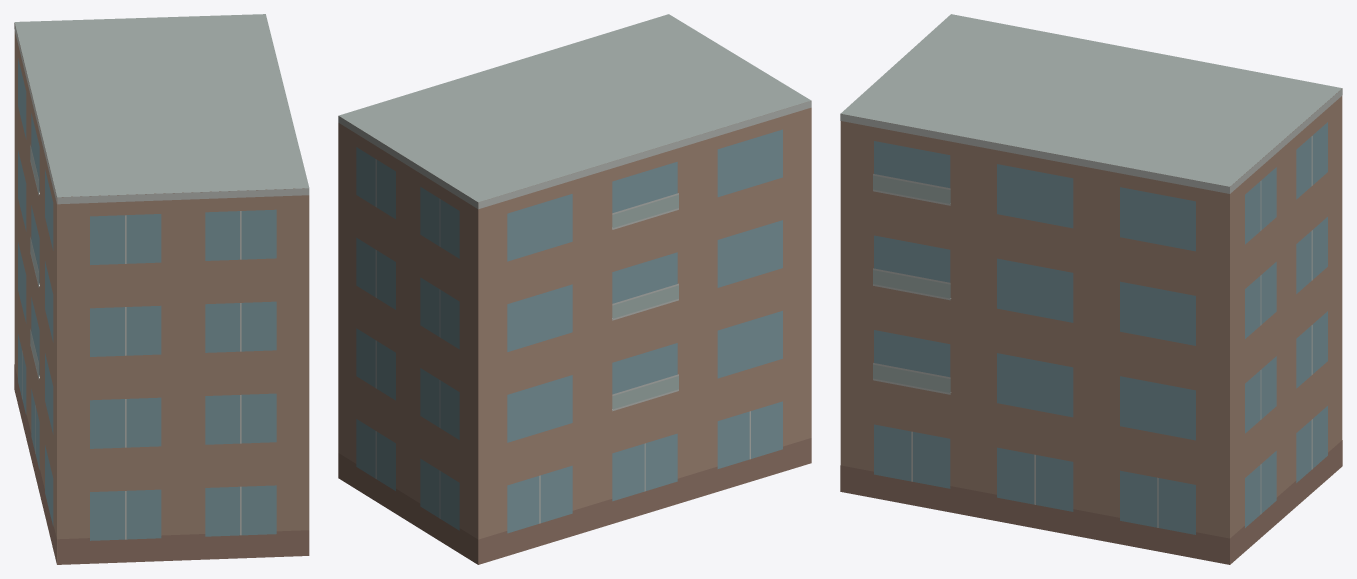
Rendered from survey-upis-32955354.glb.
The picture shows the model from 3 angles, left to right: view 1: azimuth 30°, elevation 25°; view 2: azimuth 150°, elevation 25°; view 3: azimuth 270°, elevation 25°; orthographic projection. The views are drawn at different scales.
Visible parts, largest first — view 1: survey-upis-32955354.tmp; view 2: survey-upis-32955354.tmp; view 3: survey-upis-32955354.tmp.
Boxes of the visible parts, x1=… form: survey-upis-32955354.tmp: x1=14, y1=14, x2=309, y2=564; survey-upis-32955354.tmp: x1=338, y1=14, x2=811, y2=564; survey-upis-32955354.tmp: x1=840, y1=14, x2=1342, y2=564.
Size of the model in its own units: 12.56 by 12.8 by 15.41.
